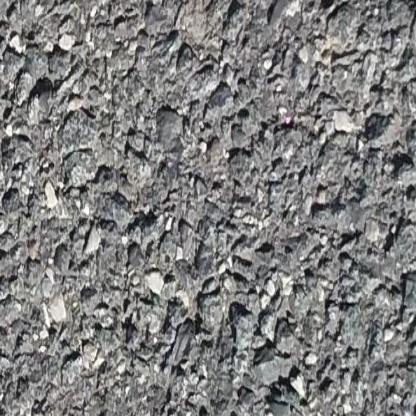Cracks: (382, 0, 416, 37), (352, 0, 379, 4)
